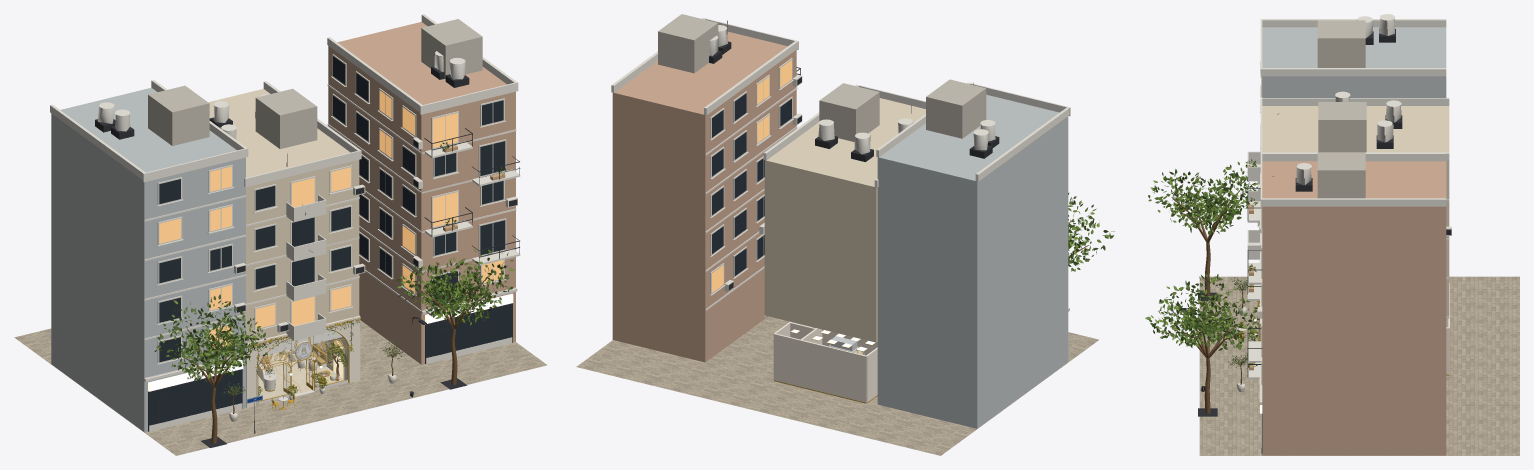
Rendered from maison-100_lod1.glb.
3 renders of one model, left to right at view 1: azimuth 30°, elevation 25°; view 2: azimuth 150°, elevation 25°; view 3: azimuth 270°, elevation 25°, orthographic.
Parts seen in each view (by area): view 1: bw6, bw5, bwtrim, win, paving, facade_hi, bw3, win_lit_n, leaf, leaf2, iron, facade (+5 smaller); view 2: bw6, bw5, facade_hi, paving, bwtrim, bw3, plaster, win, iron, win_lit_n, leaf; view 3: bw5, paving, bwtrim, bw6, bw3, facade_hi, leaf, leaf2, iron, trunk.
Boxes of the visible parts, x1,y1,x2,y2 form: bw6: [51, 87, 245, 432]; bw5: [328, 22, 515, 364]; bwtrim: [50, 14, 520, 431]; win: [149, 56, 512, 425]; paving: [14, 320, 547, 455]; facade_hi: [208, 89, 359, 343]; bw3: [148, 19, 482, 148]; win_lit_n: [159, 90, 503, 348]; leaf: [156, 142, 514, 395]; leaf2: [154, 142, 513, 397]; iron: [95, 66, 520, 447]; facade: [246, 315, 360, 407]; bw6: [877, 94, 1068, 428]; bw5: [612, 31, 796, 362]; facade_hi: [764, 98, 925, 342]; paving: [576, 316, 1098, 455]; bwtrim: [611, 18, 1070, 316]; bw3: [658, 14, 986, 141]; plaster: [773, 321, 877, 403]; win: [712, 93, 791, 275]; iron: [709, 20, 999, 290]; win_lit_n: [712, 60, 791, 292]; leaf: [1068, 200, 1114, 271]; bw5: [1262, 161, 1446, 455]; paving: [1199, 276, 1519, 455]; bwtrim: [1247, 14, 1451, 453]; bw6: [1262, 27, 1446, 98]; bw3: [1317, 20, 1366, 198]; facade_hi: [1262, 106, 1449, 316]; leaf: [1145, 159, 1259, 366]; leaf2: [1148, 159, 1260, 367]; iron: [1176, 29, 1451, 453]; trunk: [1171, 189, 1259, 413].
Size of the model in its own units: 30.66 by 22.09 by 26.49.
69 materials, 19 textured.
